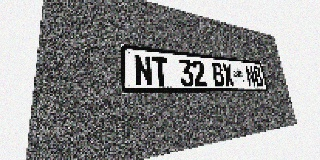2: (191, 60, 207, 86)
3: (178, 59, 194, 86)
B: (211, 62, 225, 86), (252, 66, 264, 86)
N: (134, 54, 153, 86), (244, 65, 256, 86)
T: (151, 56, 169, 86)
X: (221, 63, 235, 86)
